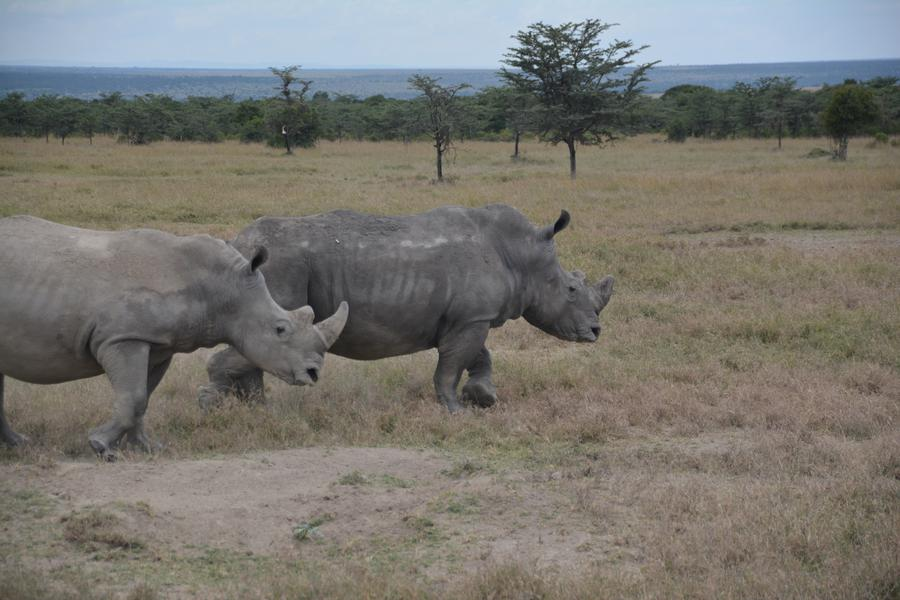rhino: (15, 220, 323, 423), (302, 206, 602, 371)
